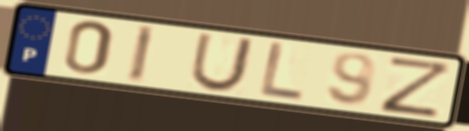0: (60, 19, 117, 78)
9: (326, 52, 380, 108)
I: (125, 23, 159, 86)
L: (256, 39, 307, 104)
U: (187, 32, 258, 94)
Z: (378, 54, 456, 120)
